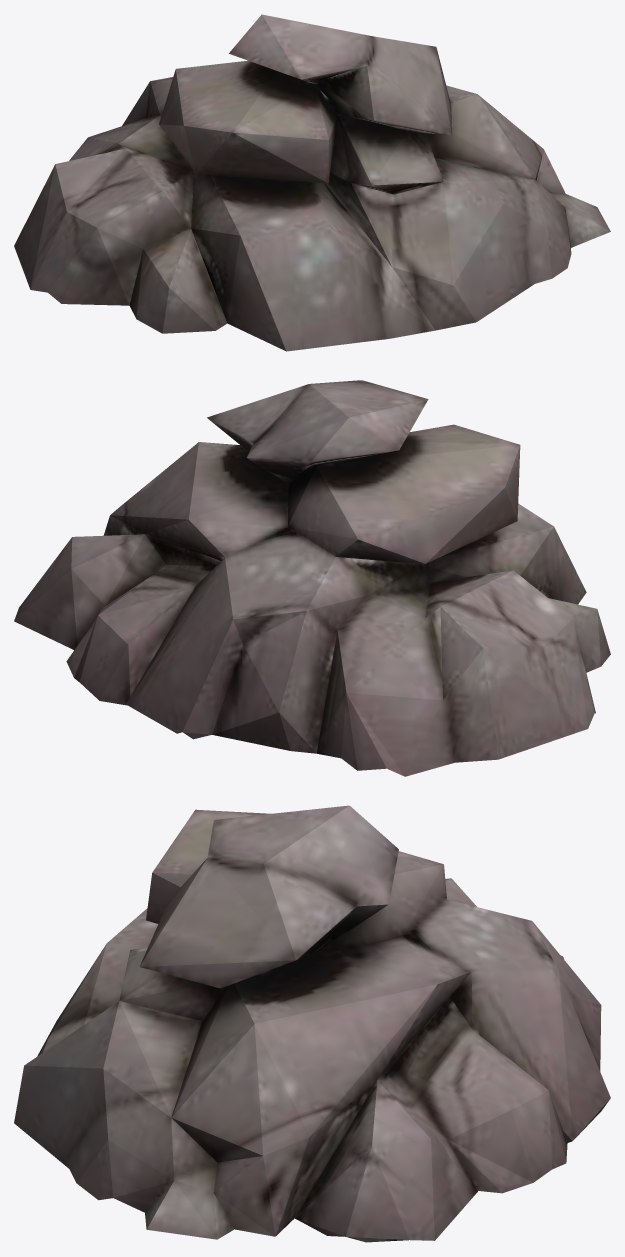
Rendered from granite_chaos_lod1.glb.
3 views of the same model, one above another, from view 1: azimuth 30°, elevation 25°; view 2: azimuth 150°, elevation 25°; view 3: azimuth 270°, elevation 25° (orthographic). The views are drawn at different scales.
Parts seen in each view (by area): view 1: granite_chaos_lod1; view 2: granite_chaos_lod1; view 3: granite_chaos_lod1.
Part boxes in pixels (x1,y1,x2,y2): granite_chaos_lod1: (14, 14, 610, 351); granite_chaos_lod1: (14, 380, 610, 776); granite_chaos_lod1: (14, 805, 610, 1242).
Bounding box in the file's own units: 1.01 × 0.4371 × 0.8488.
1 material, 1 textured.
